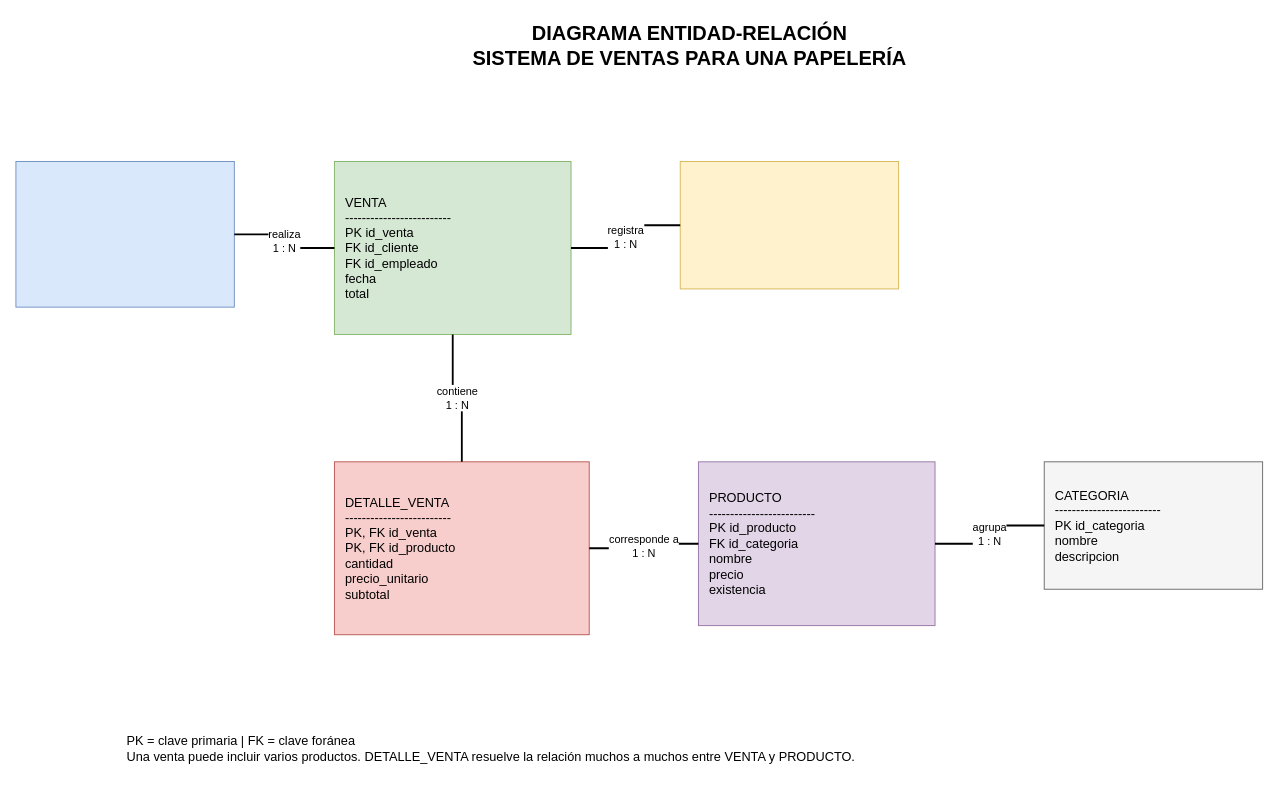
Image size: 1279x795. Some labels were removed from this diagram. The centre of each missing label's shape, as x and y in pixels:
CLIENTE ------------------------- PK id_cliente nombre telefono correo: the point at 124,234
EMPLEADO ------------------------- PK id_empleado nombre puesto: the point at 789,225
